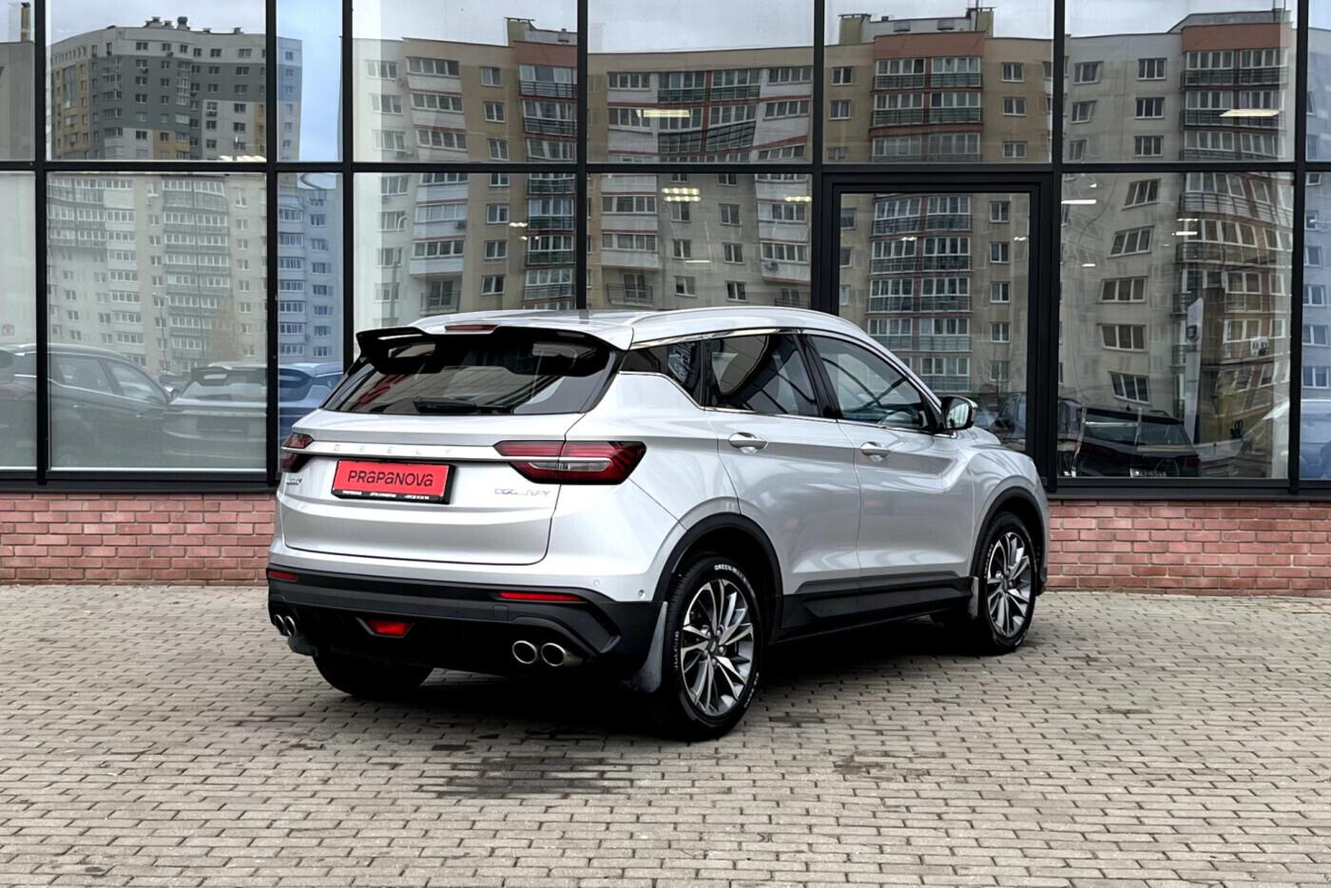Coolray_2019-2023: (258, 299, 1052, 740)
